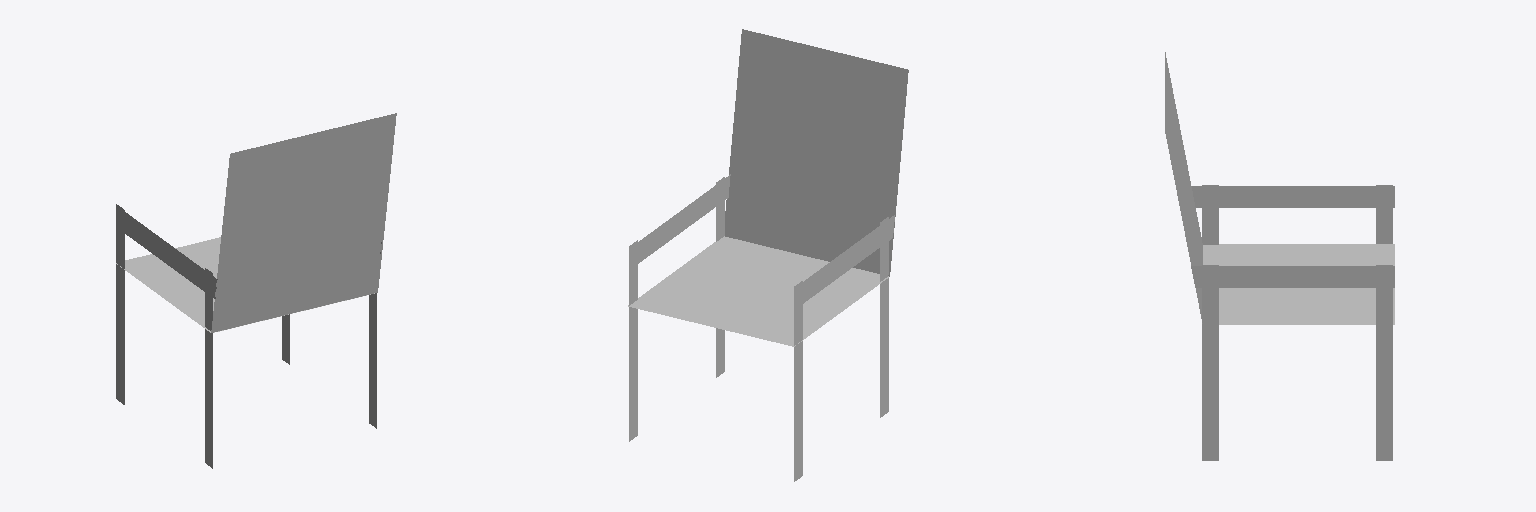
Rendered from chair.obj.
3 views of the same model, side by side, from view 1: azimuth 30°, elevation 25°; view 2: azimuth 150°, elevation 25°; view 3: azimuth 270°, elevation 25° (orthographic).
Visible parts, largest first — view 1: Chair_Plane.009; view 2: Chair_Plane.009; view 3: Chair_Plane.009.
Part boxes in pixels (bbox=[...]): Chair_Plane.009: bbox=[116, 113, 396, 468]; Chair_Plane.009: bbox=[628, 29, 908, 481]; Chair_Plane.009: bbox=[1165, 52, 1394, 460].
Bounding box in the file's own units: 2 × 3.77 × 2.38.